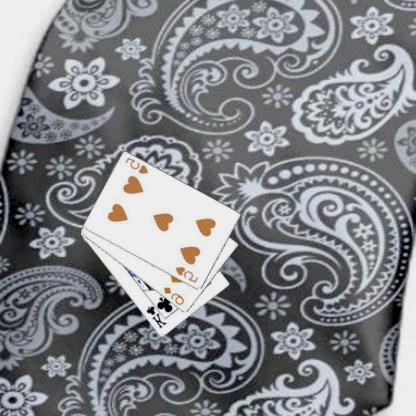5H: (174, 264, 202, 284), (124, 155, 151, 175)
9D: (162, 285, 188, 307)
KC: (146, 298, 170, 330)
